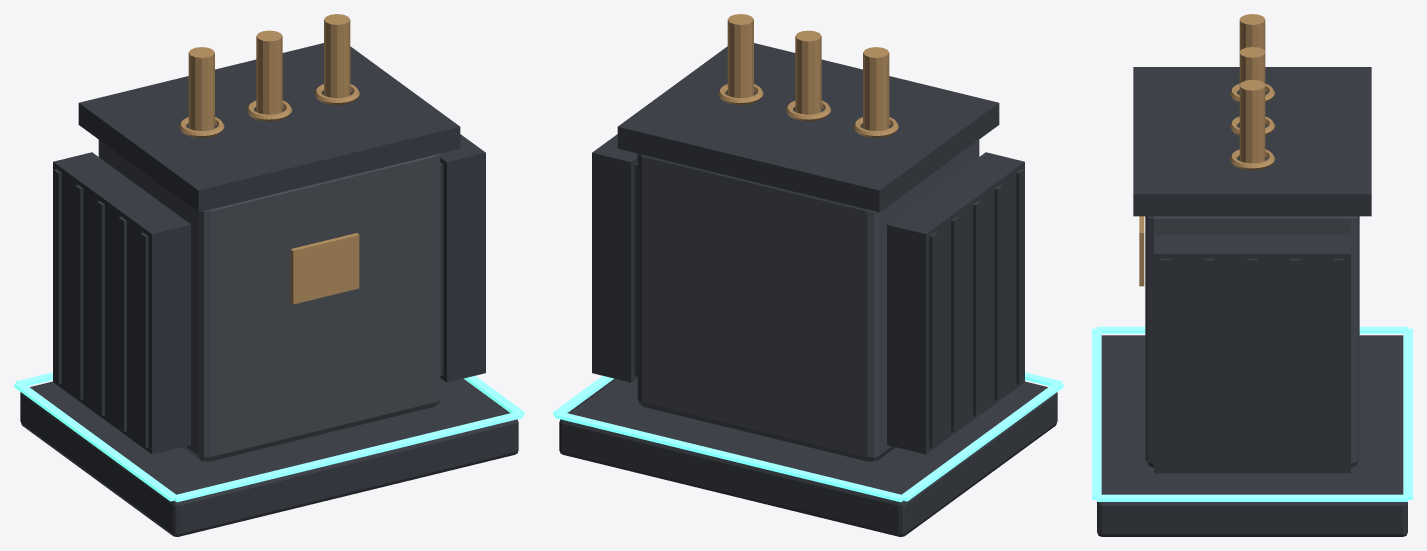
The model's file is transformer_substation.glb.
3 views of the same model, side by side, from view 1: azimuth 30°, elevation 25°; view 2: azimuth 150°, elevation 25°; view 3: azimuth 270°, elevation 25° (orthographic).
Visible parts, largest first — view 1: part_tank, part_lid, part_base, part_radiator_0, part_radiator_1, part_sign, part_base_outline_x0, part_bushing_1, part_bushing_0, part_bushing_2, part_fin_0_0, part_fin_0_1 (+5 smaller); view 2: part_tank, part_lid, part_base, part_radiator_0, part_radiator_1, part_base_outline_x1, part_bushing_1, part_bushing_0, part_bushing_2, part_fin_0_0, part_fin_0_3, part_fin_0_4 (+4 smaller); view 3: part_radiator_1, part_lid, part_base, part_tank, part_base_outline_z1, part_fin_1_2, part_fin_1_0, part_fin_1_1, part_fin_1_3, part_fin_1_4, part_bushing_2, part_base_outline_x0 (+6 smaller).
Boxes of the visible parts, x1,y1,x2,y2 form: part_tank: [98, 140, 440, 461]; part_lid: [78, 43, 460, 212]; part_base: [20, 378, 518, 536]; part_radiator_0: [53, 152, 190, 454]; part_radiator_1: [440, 134, 485, 382]; part_sign: [290, 233, 359, 304]; part_base_outline_x0: [172, 411, 522, 502]; part_bushing_1: [256, 30, 282, 114]; part_bushing_0: [188, 47, 214, 130]; part_bushing_2: [324, 14, 350, 97]; part_fin_0_0: [140, 232, 148, 447]; part_fin_0_1: [118, 216, 126, 431]; part_tank: [637, 140, 979, 461]; part_lid: [617, 43, 999, 212]; part_base: [559, 378, 1057, 536]; part_radiator_0: [887, 152, 1024, 454]; part_radiator_1: [592, 134, 637, 382]; part_base_outline_x1: [555, 411, 905, 502]; part_bushing_1: [795, 30, 821, 114]; part_bushing_0: [863, 47, 889, 130]; part_bushing_2: [727, 14, 753, 97]; part_fin_0_0: [1016, 169, 1024, 384]; part_fin_0_3: [951, 216, 959, 431]; part_fin_0_4: [929, 232, 937, 447]; part_radiator_1: [1154, 235, 1350, 473]; part_lid: [1133, 67, 1371, 216]; part_base: [1097, 335, 1407, 536]; part_tank: [1145, 216, 1359, 467]; part_base_outline_z1: [1097, 494, 1407, 501]; part_fin_1_2: [1247, 258, 1257, 470]; part_fin_1_0: [1161, 258, 1171, 470]; part_fin_1_1: [1204, 258, 1214, 470]; part_fin_1_3: [1290, 258, 1300, 470]; part_fin_1_4: [1333, 258, 1343, 470]; part_bushing_2: [1239, 79, 1265, 163]; part_base_outline_x0: [1092, 328, 1101, 499].
Bounding box in the file's own units: 2.35 × 2.57 × 1.85.
